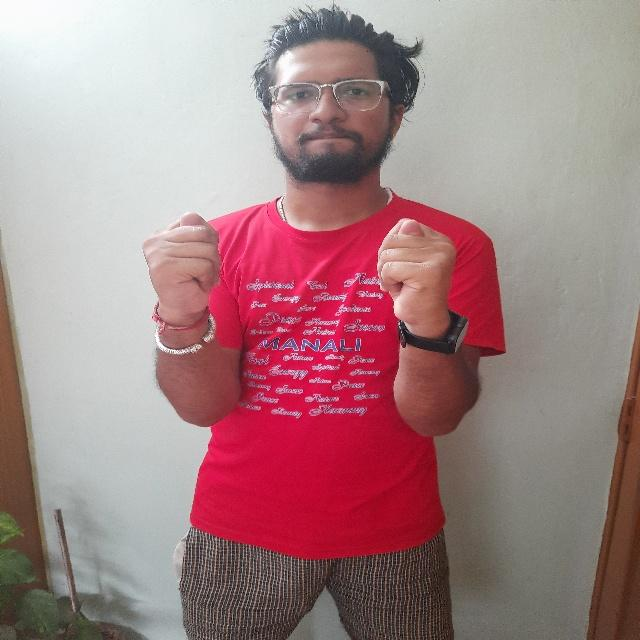Dulya: (131, 199, 237, 337), (372, 213, 476, 349)
